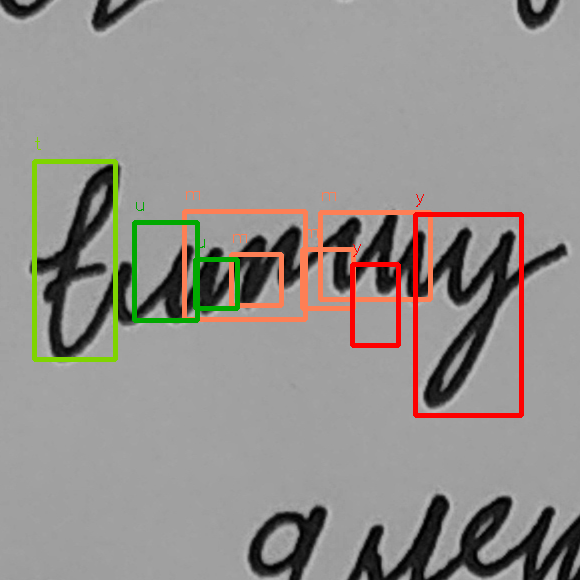m: (322, 203, 432, 309), (190, 220, 310, 316)
t: (25, 158, 124, 365)
u: (105, 234, 198, 329)
y: (417, 219, 521, 414)
